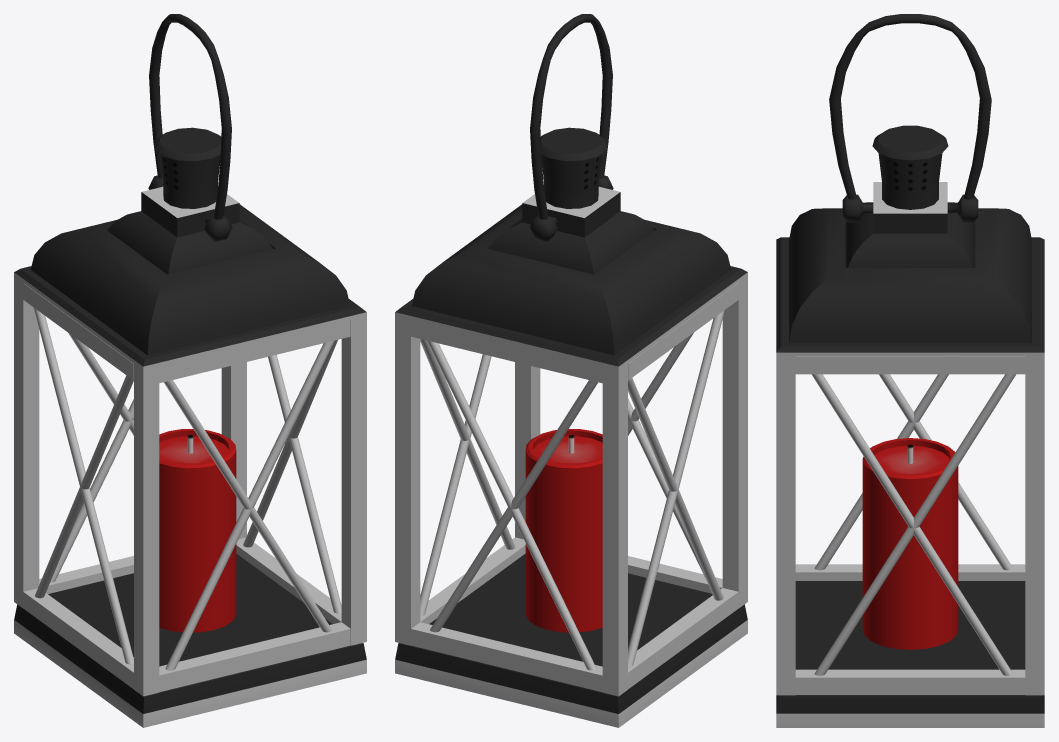
The model's file is Lantaarn 1.fbx.
The picture shows the model from 3 angles, left to right: view 1: azimuth 30°, elevation 25°; view 2: azimuth 150°, elevation 25°; view 3: azimuth 270°, elevation 25°; orthographic projection. The views are drawn at different scales.
Visible parts, largest first — view 1: pCube15, pCylinder16, pCube16, pCube1, pCube2, pCube4, pCube6, pCube9, pCylinder15, pCylinder4, pCylinder10, pCube11 (+13 smaller); view 2: pCube15, pCylinder16, pCube16, pCube1, pCube6, pCube5, pCube2, pCube7, pCylinder15, pCylinder1, pCylinder9, pCube11 (+13 smaller); view 3: pCube15, pCylinder16, pCube1, pCube16, pCube4, pCube5, pCube14, pCylinder15, pCube13, pCylinder8, pCylinder7, pCylinder11 (+6 smaller).
Boxes of the visible parts, box(x1,y1,x2,y2) form: pCube15: box(14, 186, 366, 370); pCylinder16: box(159, 429, 236, 632); pCube16: box(14, 604, 366, 727); pCube1: box(48, 553, 332, 666); pCube2: box(134, 364, 159, 696); pCube4: box(341, 316, 366, 645); pCube6: box(14, 276, 39, 608); pCube9: box(159, 622, 350, 691); pCylinder15: box(149, 14, 231, 219); pCylinder4: box(165, 340, 334, 670); pCylinder10: box(34, 308, 133, 664); pCube11: box(23, 588, 133, 689); pCube15: box(395, 186, 747, 370); pCylinder16: box(525, 429, 602, 632); pCube16: box(395, 604, 747, 727); pCube1: box(429, 553, 712, 666); pCube6: box(602, 364, 627, 696); pCube5: box(395, 316, 420, 645); pCube2: box(722, 276, 747, 608); pCube7: box(411, 622, 602, 692); pCylinder15: box(530, 14, 612, 219); pCylinder1: box(427, 340, 596, 670); pCylinder9: box(628, 310, 724, 666); pCube11: box(628, 588, 738, 689); pCube15: box(776, 182, 1044, 356); pCylinder16: box(862, 438, 958, 649); pCube1: box(795, 581, 1025, 669); pCube16: box(776, 695, 1044, 727); pCube4: box(776, 357, 795, 695); pCube5: box(1025, 357, 1044, 695); pCube14: box(795, 669, 1025, 694); pCylinder15: box(829, 14, 991, 199); pCube13: box(795, 356, 1025, 374); pCylinder8: box(811, 374, 1012, 675); pCylinder7: box(814, 374, 1015, 675); pCylinder11: box(878, 153, 942, 209).
Bounding box in the file's own units: 28.07 × 75.69 × 28.
